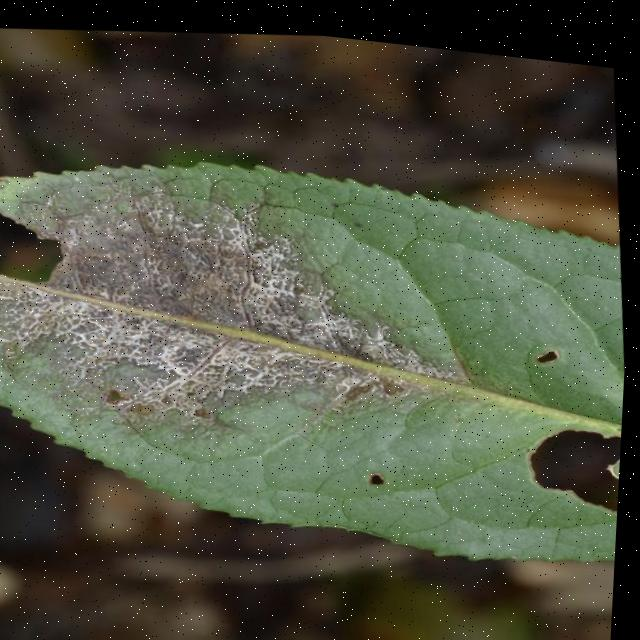Tea exobasidium blight: (0, 169, 430, 451)
